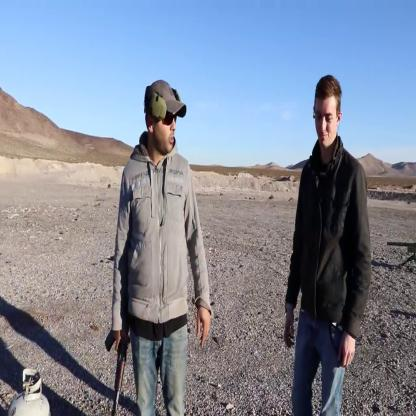long weapon: (99, 268, 137, 416)
